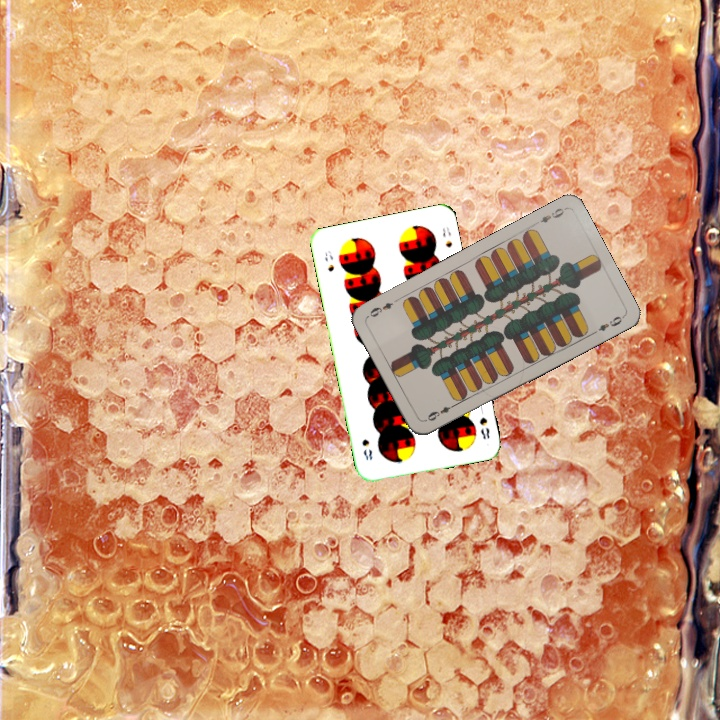E9: (421, 400, 459, 424), (530, 204, 568, 228)
S8: (475, 413, 492, 442), (321, 247, 337, 274)
